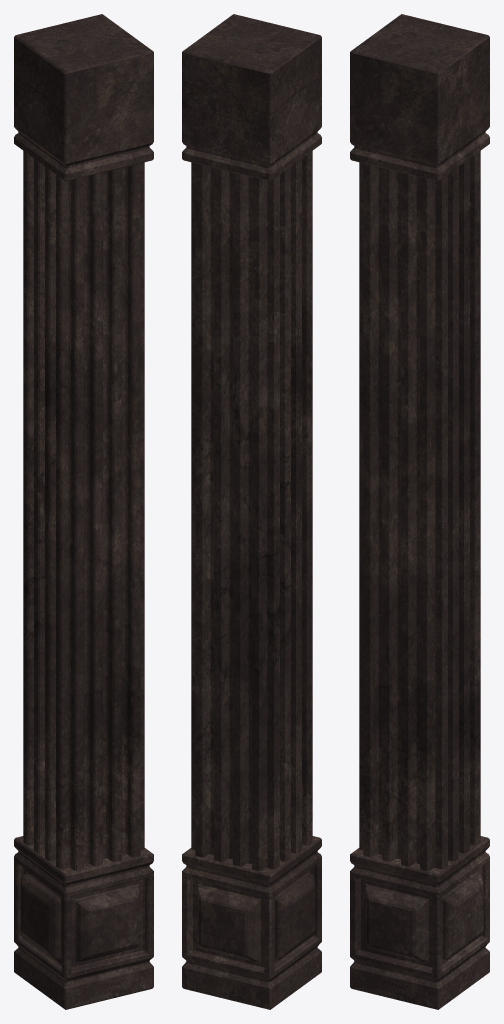
The model's file is SK3 PILLAR 1.fbx.
3 renders of one model, left to right at view 1: azimuth 30°, elevation 25°; view 2: azimuth 150°, elevation 25°; view 3: azimuth 330°, elevation 25°, orthographic.
Parts seen in each view (by area): view 1: SK3 PILLAR 1; view 2: SK3 PILLAR 1; view 3: SK3 PILLAR 1.
Part boxes in pixels (x1,y1,x2,y2): SK3 PILLAR 1: (14,14,153,1009); SK3 PILLAR 1: (182,14,321,1009); SK3 PILLAR 1: (350,14,489,1009).
Bounding box in the file's own units: 44.83 × 400 × 45.03.
